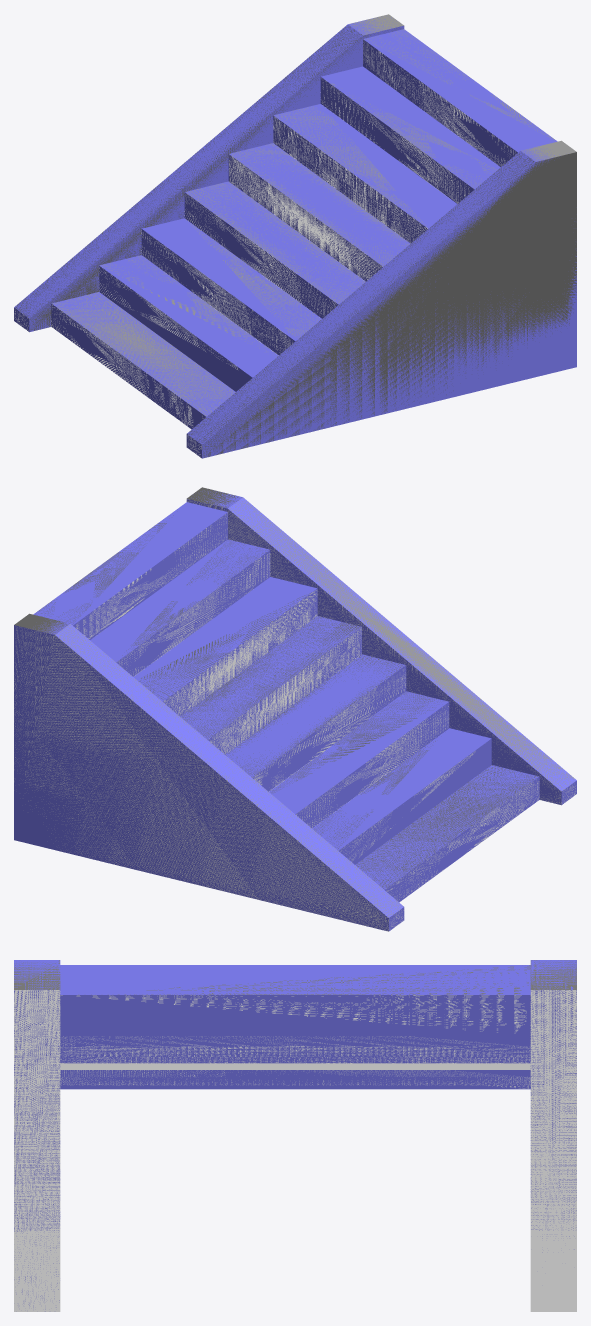
File: SM_Dummy_Ramp.fbx
3 views of the same model, one above another, from view 1: azimuth 30°, elevation 25°; view 2: azimuth 150°, elevation 25°; view 3: azimuth 270°, elevation 25° (orthographic). The views are drawn at different scales.
Parts seen in each view (by area): view 1: SM_Dummy_Ramp, SM_Dummy_Ramp_ConvexHulls; view 2: SM_Dummy_Ramp, SM_Dummy_Ramp_ConvexHulls; view 3: SM_Dummy_Ramp, SM_Dummy_Ramp_ConvexHulls.
Boxes of the visible parts, bbox=[...] form: SM_Dummy_Ramp: bbox=[14, 17, 576, 458]; SM_Dummy_Ramp_ConvexHulls: bbox=[14, 14, 576, 457]; SM_Dummy_Ramp: bbox=[14, 490, 576, 931]; SM_Dummy_Ramp_ConvexHulls: bbox=[14, 487, 575, 931]; SM_Dummy_Ramp: bbox=[14, 960, 576, 1311]; SM_Dummy_Ramp_ConvexHulls: bbox=[14, 960, 576, 1311].
Bounding box in the file's own units: 310 × 270 × 170.
2 materials, 1 textured.
